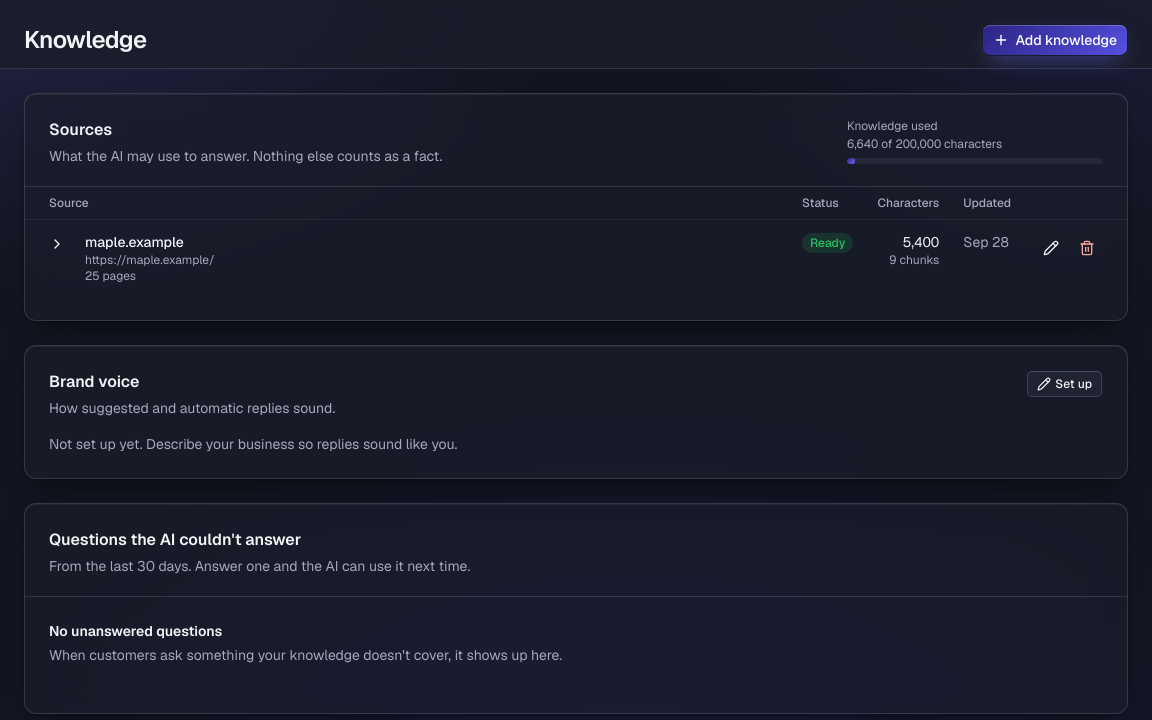
Test: A website's pages (GR-35) › tells when the plan's cap stopped the crawl
Click the button named "Show pages of maple.example" at coordinates (57, 244), box [41,228,73,260]
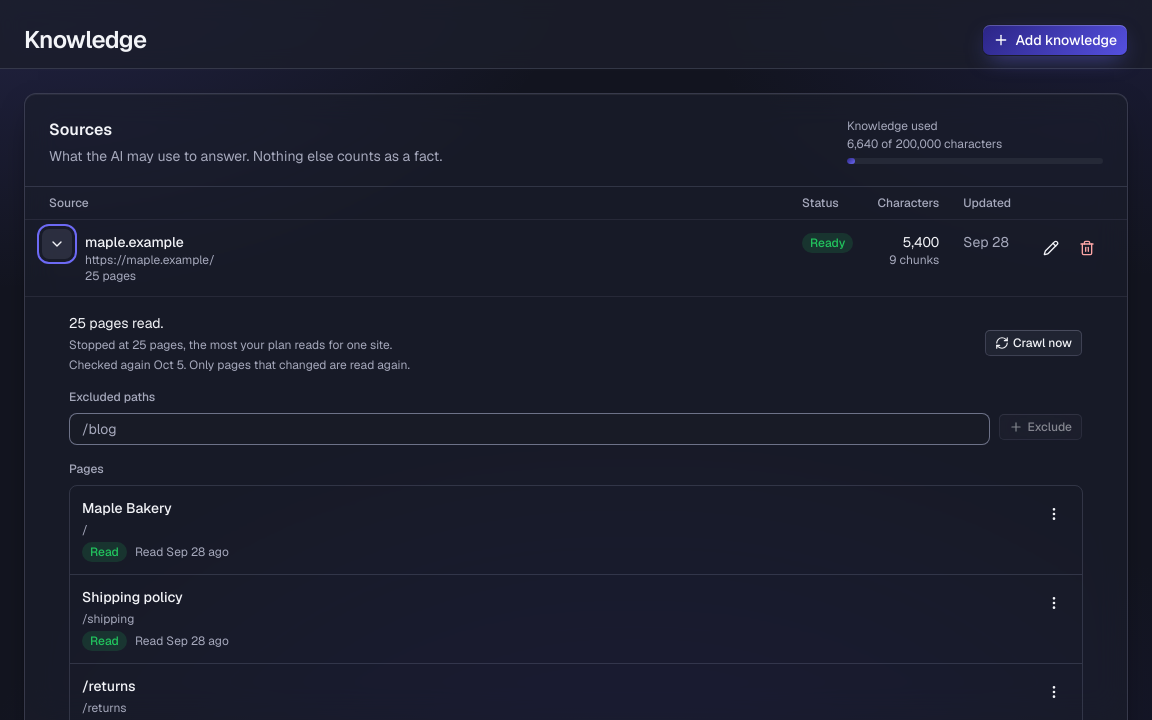
Now the text "Shipping policy" is shown, box [82,588,183,606]
Now the text "Stopped at 25 pages, the most your plan reads for one site." is shown, box [69,337,410,353]
